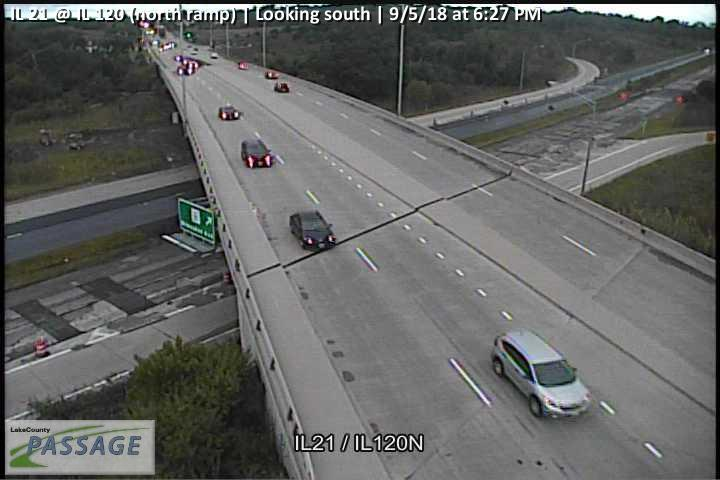SUV: (489, 328, 592, 419), (240, 138, 272, 166), (274, 80, 289, 93)
Sedan: (289, 210, 336, 251), (218, 105, 240, 120)
